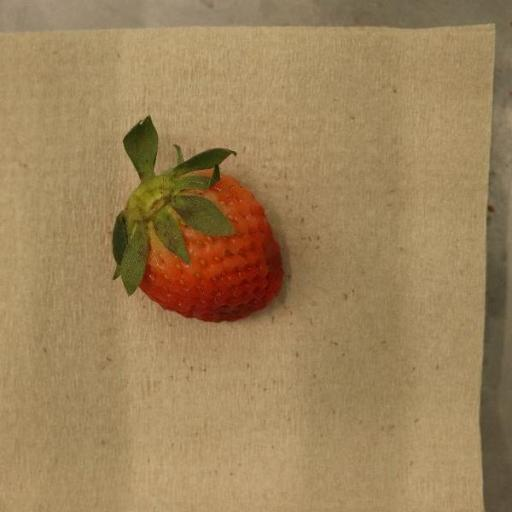Strawberry: (111, 116, 284, 324)
